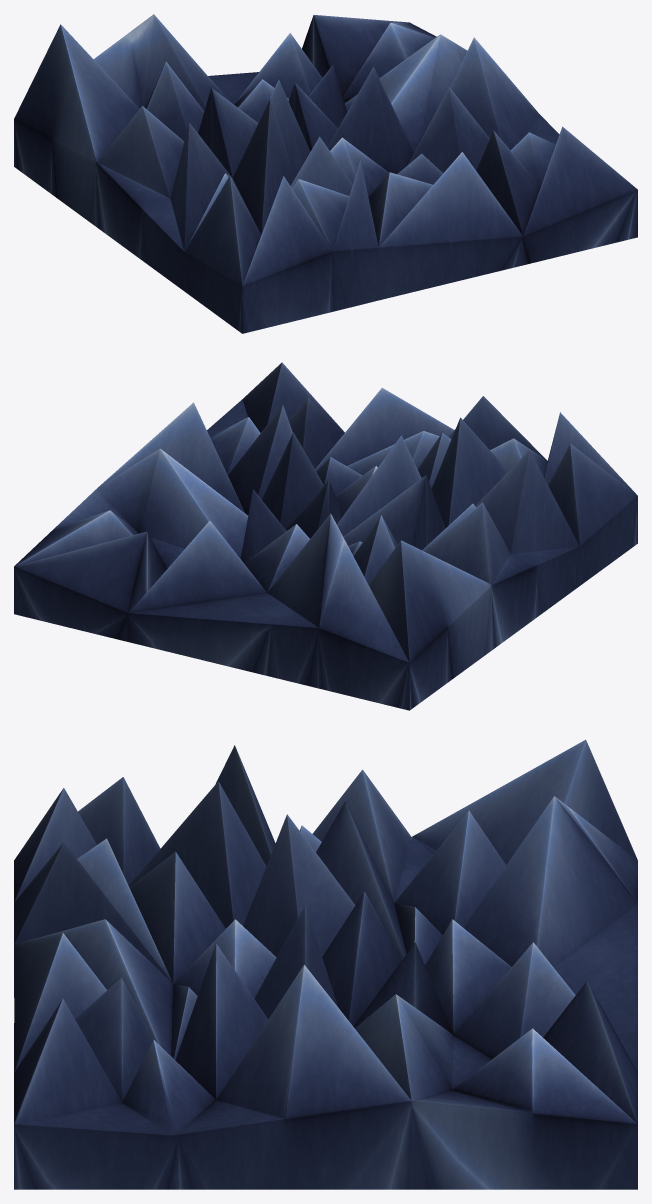
File: SM_Spikes_A.fbx
3 views of the same model, one above another, from view 1: azimuth 30°, elevation 25°; view 2: azimuth 150°, elevation 25°; view 3: azimuth 270°, elevation 25° (orthographic). The views are drawn at different scales.
Visible parts, largest first — view 1: Spikes_LR; view 2: Spikes_LR; view 3: Spikes_LR.
Part boxes in pixels (bbox=[...]): Spikes_LR: bbox=[14, 14, 637, 333]; Spikes_LR: bbox=[14, 362, 637, 710]; Spikes_LR: bbox=[14, 739, 637, 1189].
Size of the model in its own units: 100 by 37.7 by 100.
